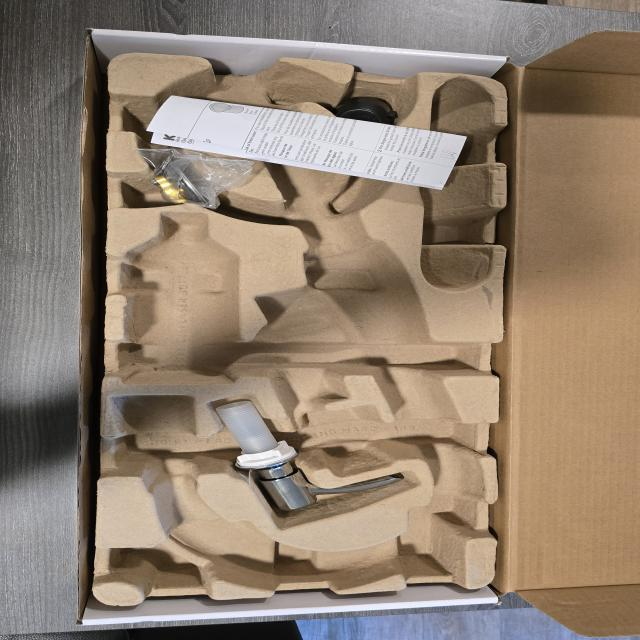1m: (110, 59, 480, 590)
2: (215, 400, 404, 515)
3m: (126, 212, 235, 382)
4m: (419, 78, 493, 292)
5o: (338, 97, 402, 137)
6: (129, 148, 256, 212)
7m: (119, 83, 215, 144)
8: (145, 95, 470, 191)
